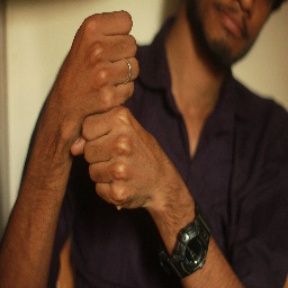G: (56, 2, 171, 217)
